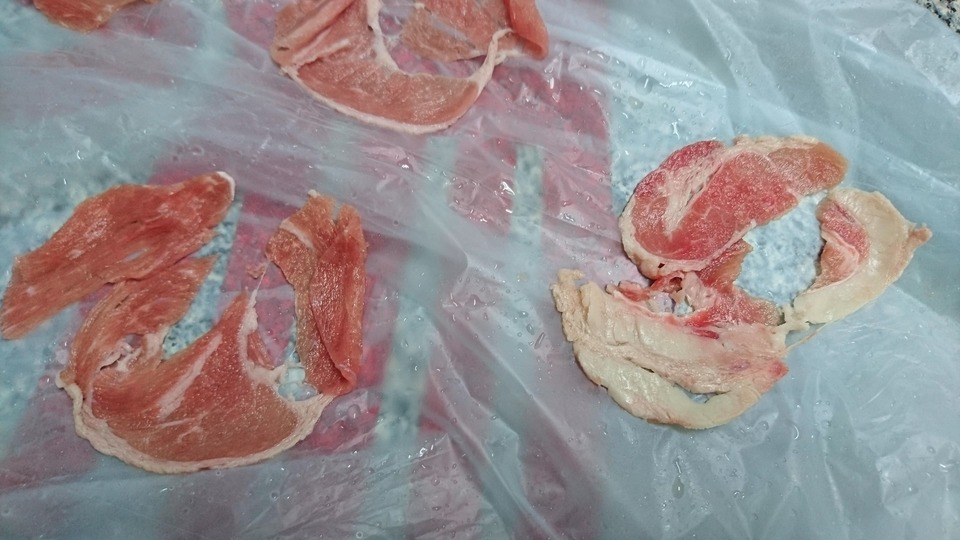restructured meat: (14, 166, 374, 478), (557, 129, 917, 441), (265, 1, 553, 130)
